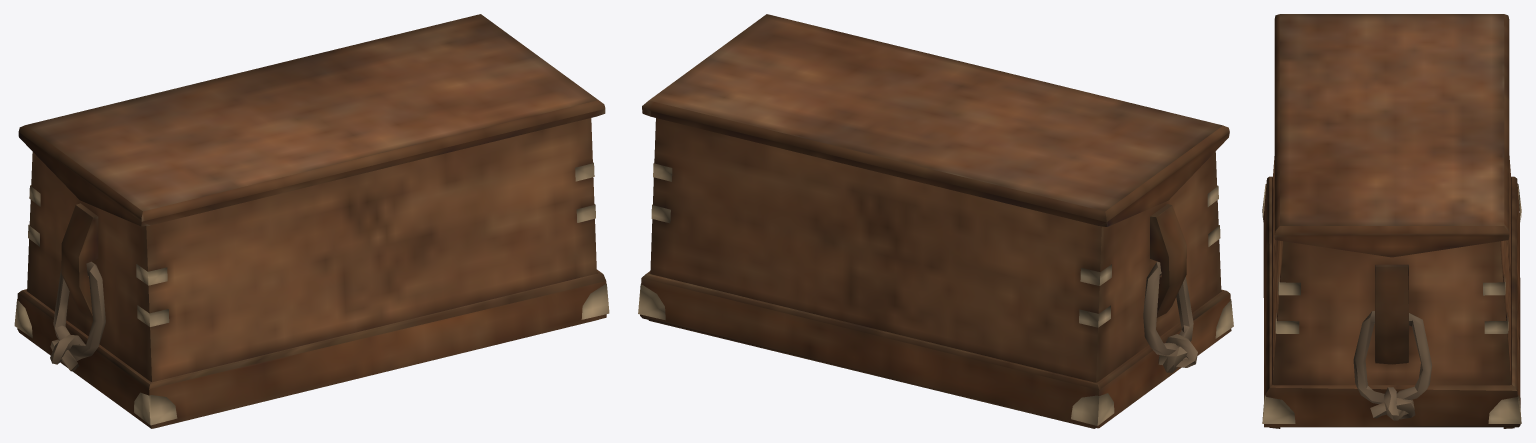
Rendered from wooden_crate_02.fbx.
3 views of the same model, side by side, from view 1: azimuth 30°, elevation 25°; view 2: azimuth 150°, elevation 25°; view 3: azimuth 270°, elevation 25° (orthographic). The views are drawn at different scales.
Visible parts, largest first — view 1: wooden_crate_02; view 2: wooden_crate_02; view 3: wooden_crate_02.
Boxes of the visible parts, x1,y1,x2,y2 form: wooden_crate_02: (14, 14, 609, 428); wooden_crate_02: (638, 14, 1233, 428); wooden_crate_02: (1262, 14, 1521, 428).
Bounding box in the file's own units: 1.17 × 0.4612 × 0.5274.
